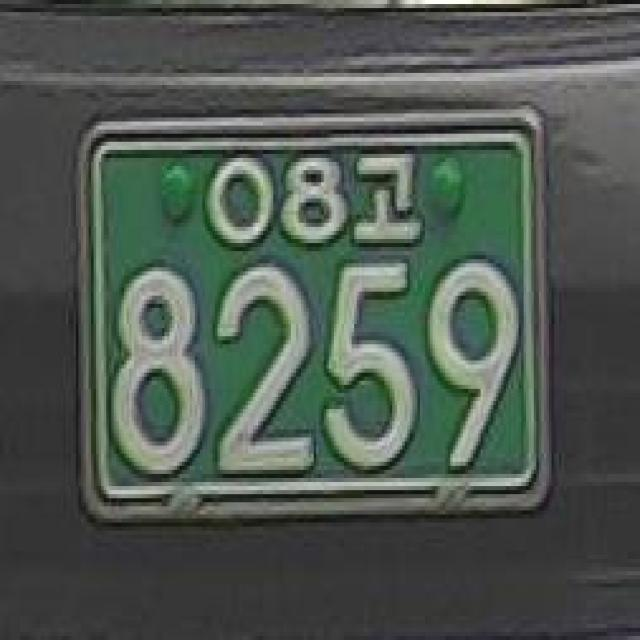illegal_plate: (58, 96, 564, 546)
